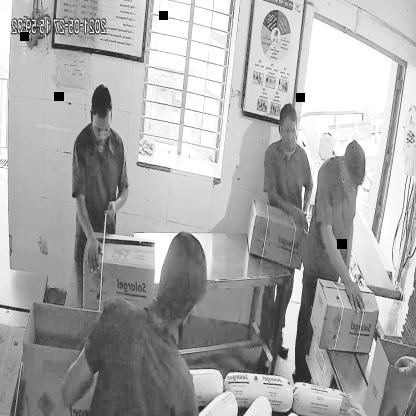no_goggles: (88, 115, 114, 139)
